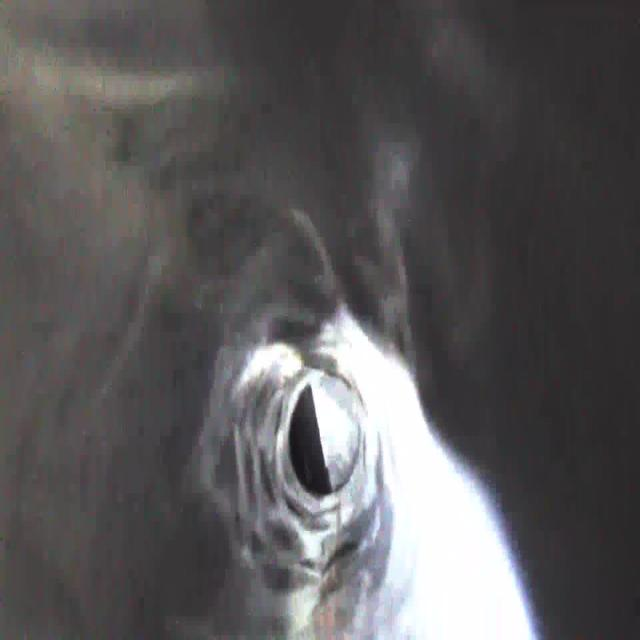crack: (220, 388, 281, 501), (266, 519, 320, 607)
